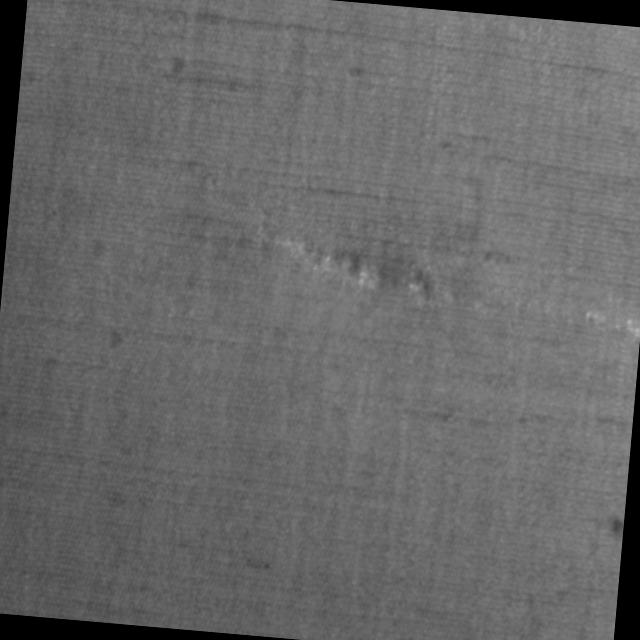thread error: (264, 225, 466, 322)
